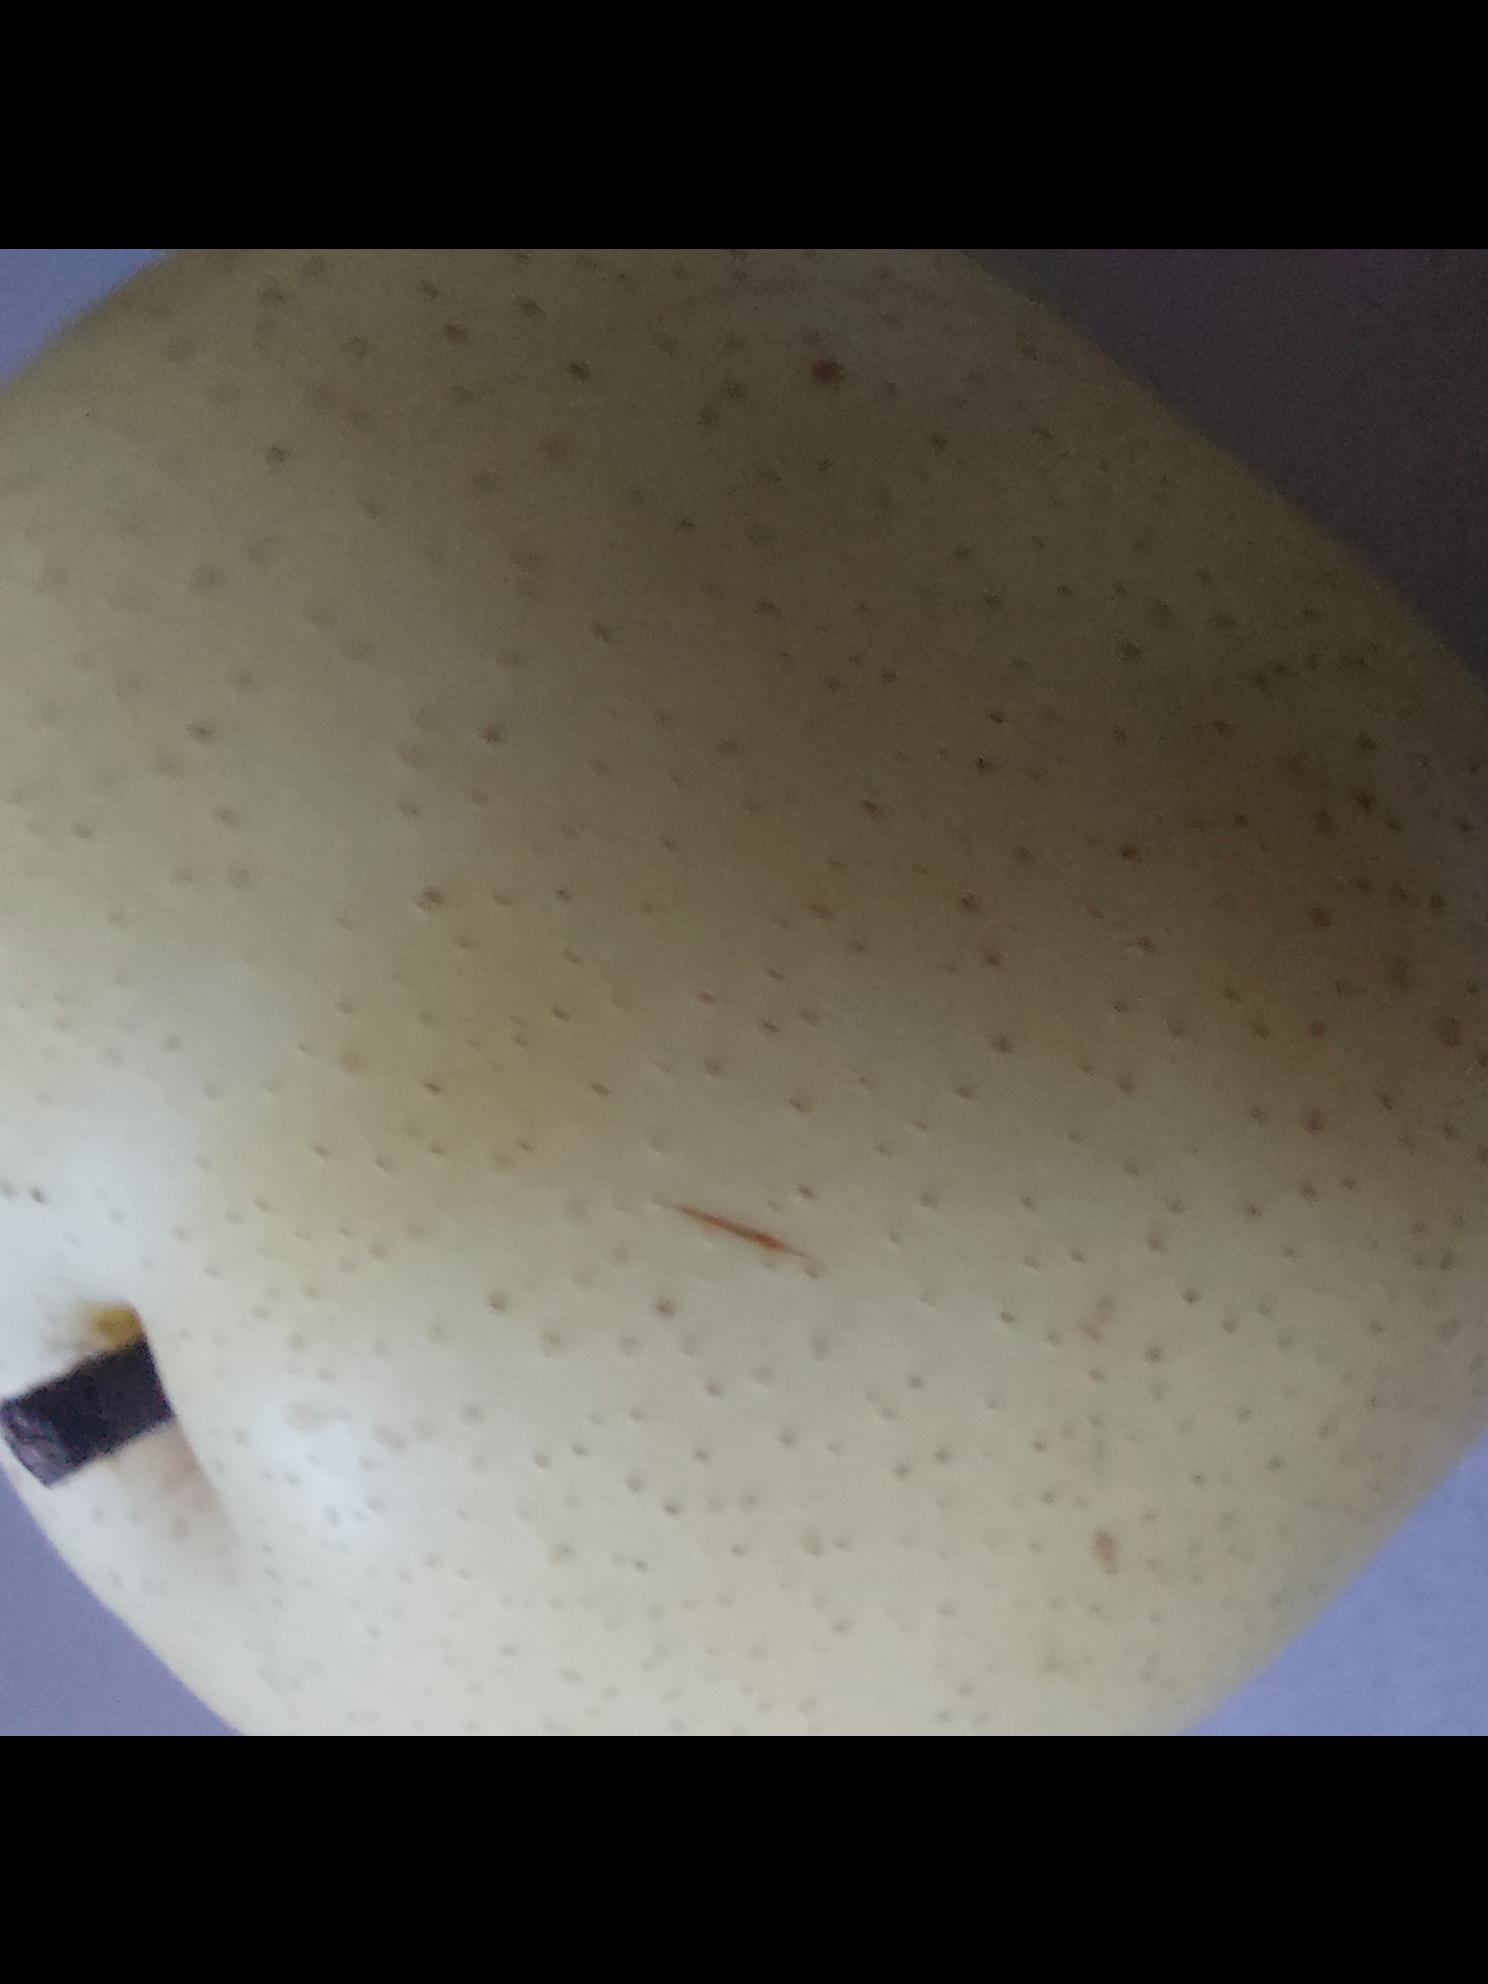Good Pear: (0, 262, 1488, 1736)
